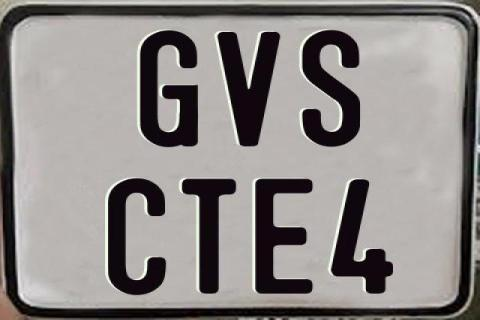0: (330, 179, 392, 297)
C: (105, 178, 167, 298)
E: (254, 178, 316, 298)
G: (137, 29, 199, 149)
S: (300, 28, 363, 148)
T: (181, 176, 240, 294)
V: (216, 32, 284, 146)
